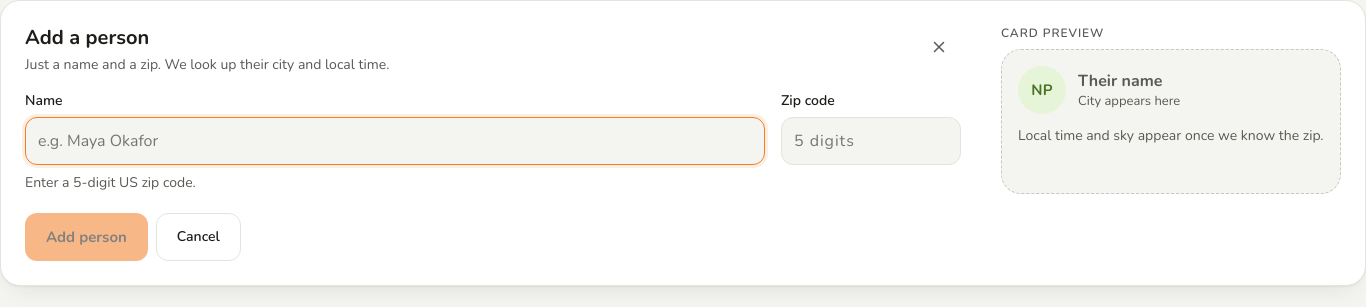
Scenario: AddSheet › an outage explains and still allows saving
Type "Noor" into the field labelled "Name" at (395,141), box x1=25 y1=117 x2=765 y2=165
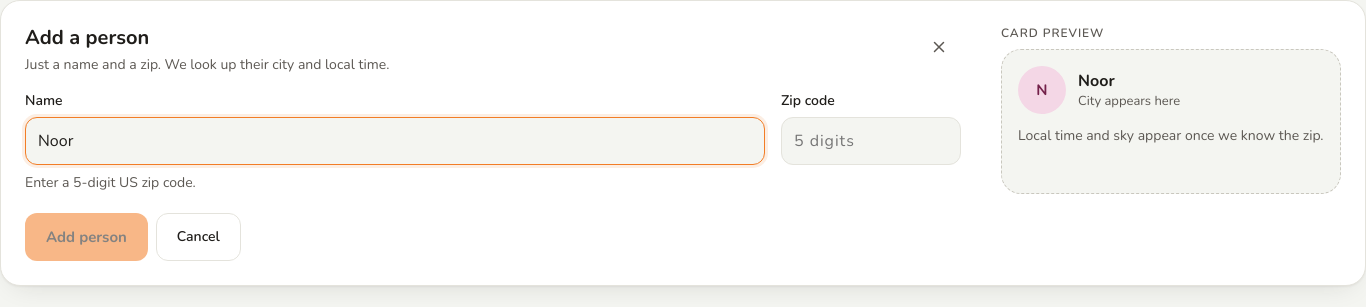
Type "12345" into the field labelled "Zip code" at (871,141), box x1=781 y1=117 x2=961 y2=165
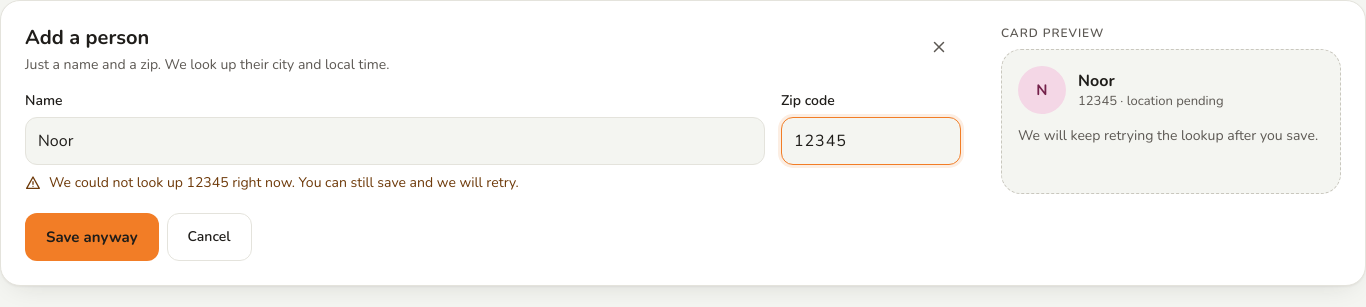
Now the text "We will keep retrying the lookup after you save." is shown, box x1=1018 y1=126 x2=1324 y2=146
Now the button "Save anyway" is enabled, box x1=25 y1=213 x2=159 y2=261
